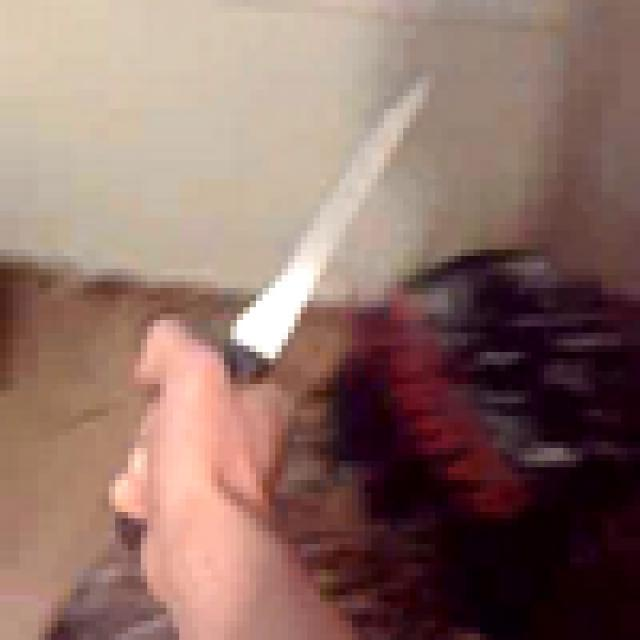knife: (115, 58, 448, 545)
